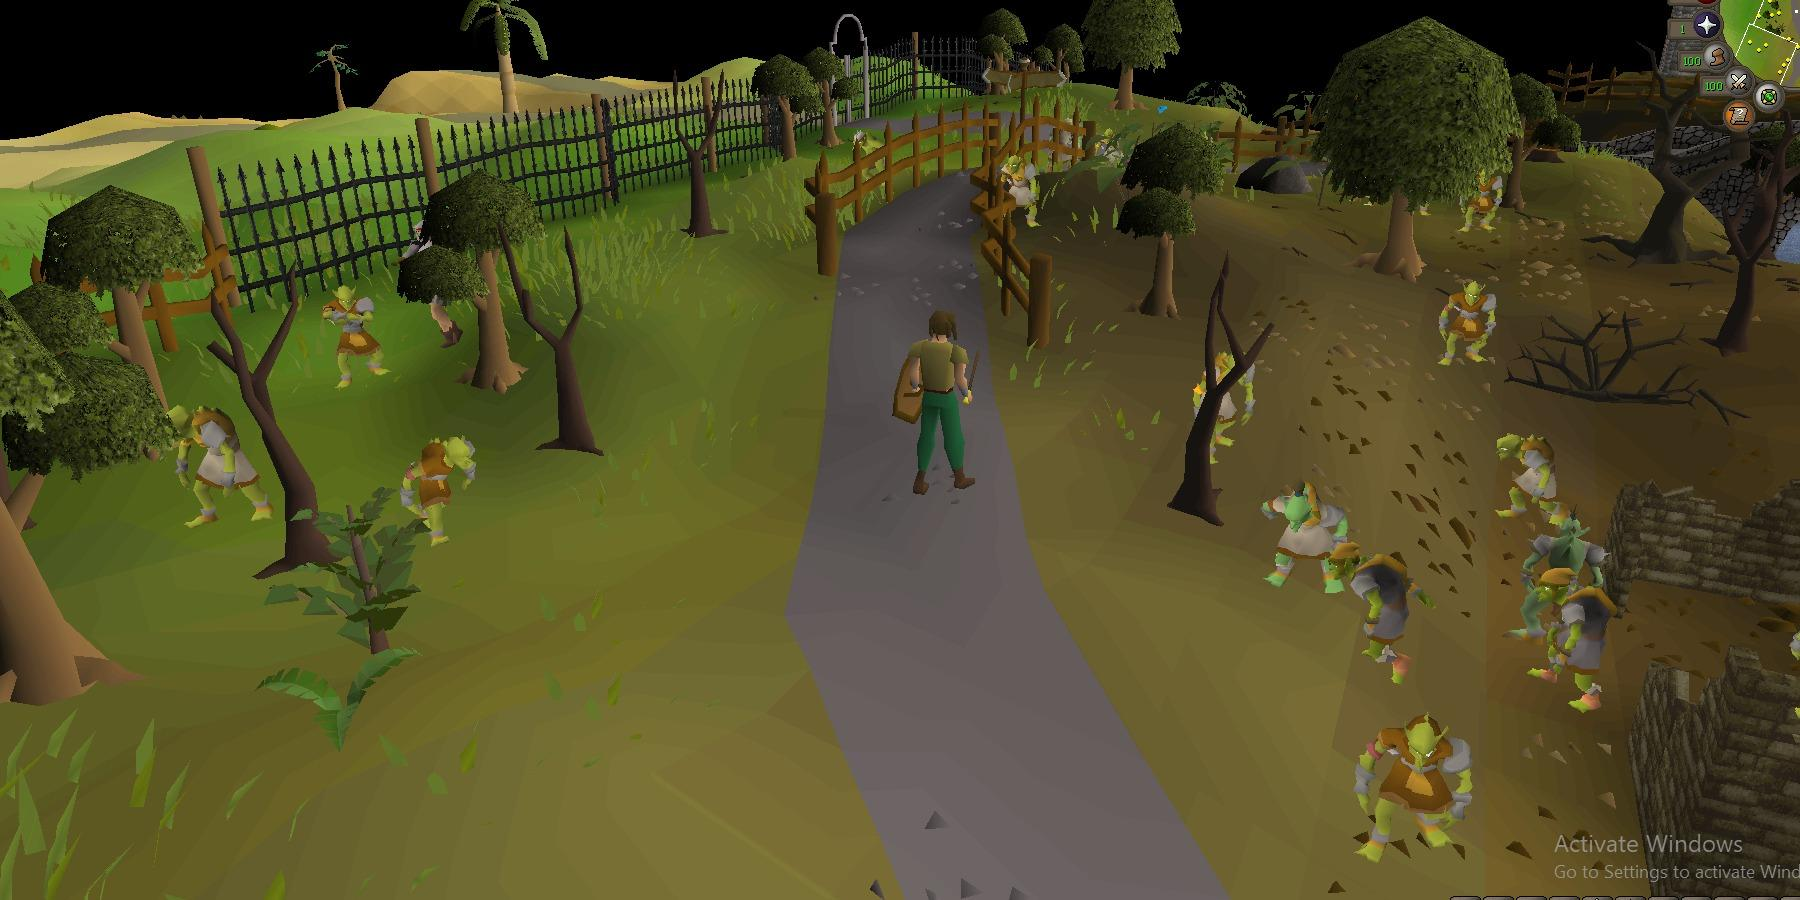goblin: (1350, 712, 1484, 864), (1329, 544, 1437, 684), (162, 403, 274, 530), (1512, 510, 1608, 644), (1527, 566, 1609, 715), (1260, 481, 1356, 597), (397, 434, 487, 546), (321, 284, 396, 391), (1496, 433, 1575, 528), (1190, 352, 1256, 464), (1438, 281, 1497, 368), (998, 155, 1047, 230), (1457, 170, 1504, 233), (851, 131, 891, 201), (1043, 115, 1087, 170), (1095, 129, 1125, 166)
